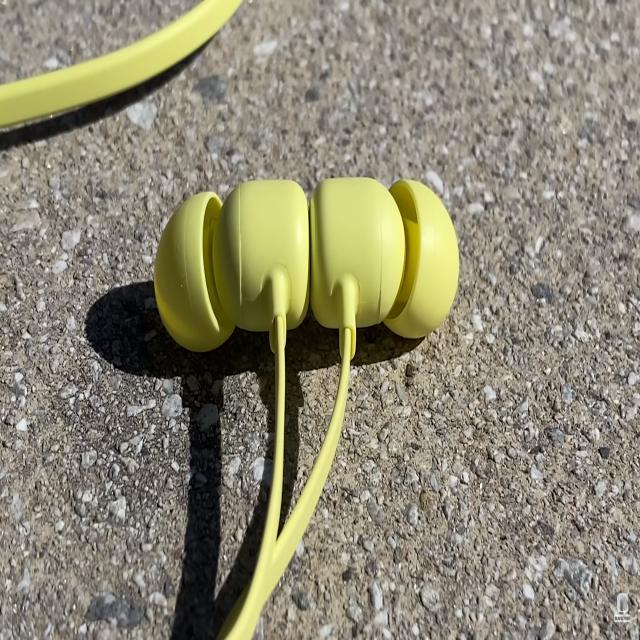Earphone: (2, 0, 462, 640)
